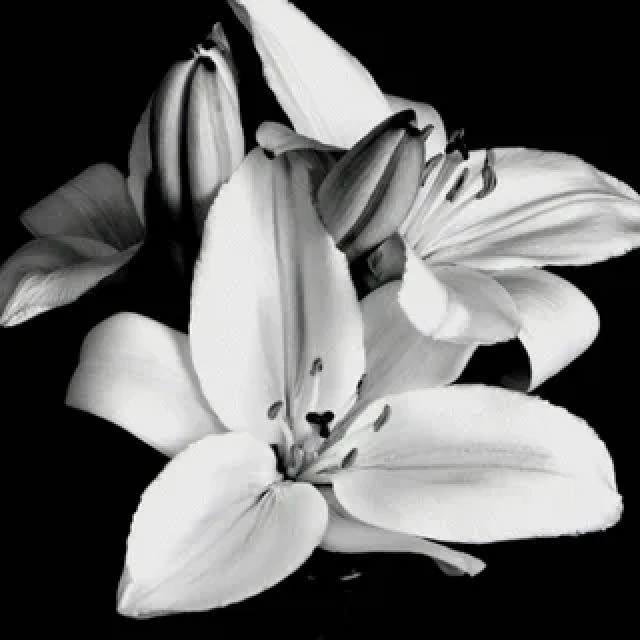lily: (61, 153, 626, 627)
